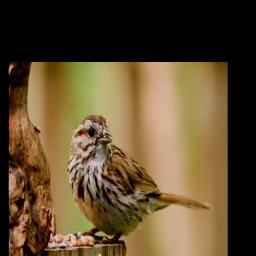Sparrow: (67, 112, 212, 256)
